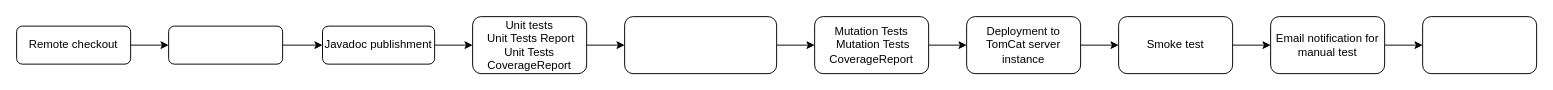
Some shapes in this 1553 by 90 pixel diagram are drawn without their labels. The shapes that lost their labels are listed below. From the top down, each one's centre as x and y in pixels, then its label:
At (225,44): "Build and War file publishment".
At (700,45): "Integration tests IntegrationTests Report IntegrationTests CoverageReport".
At (1479,45): "Tag pushed to the repository (Waits for user aproval)".
